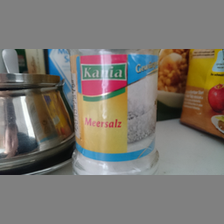spices: (69, 50, 162, 175)
